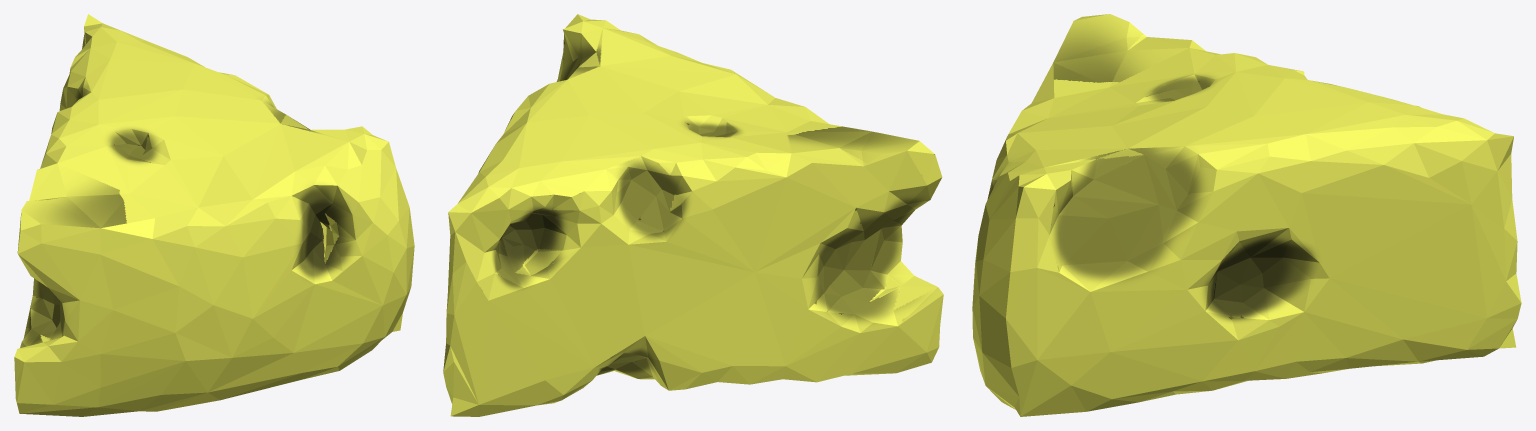
The model's file is cheese.fbx.
The picture shows the model from 3 angles, left to right: view 1: azimuth 30°, elevation 25°; view 2: azimuth 150°, elevation 25°; view 3: azimuth 270°, elevation 25°; orthographic projection. The views are drawn at different scales.
Parts seen in each view (by area): view 1: Plane.001; view 2: Plane.001; view 3: Plane.001.
Part boxes in pixels (left/top/right/bottom): Plane.001: left=14, top=14, right=414, bottom=416; Plane.001: left=443, top=14, right=943, bottom=416; Plane.001: left=972, top=14, right=1521, bottom=416.
Size of the model in its own units: 191 by 114 by 209.
